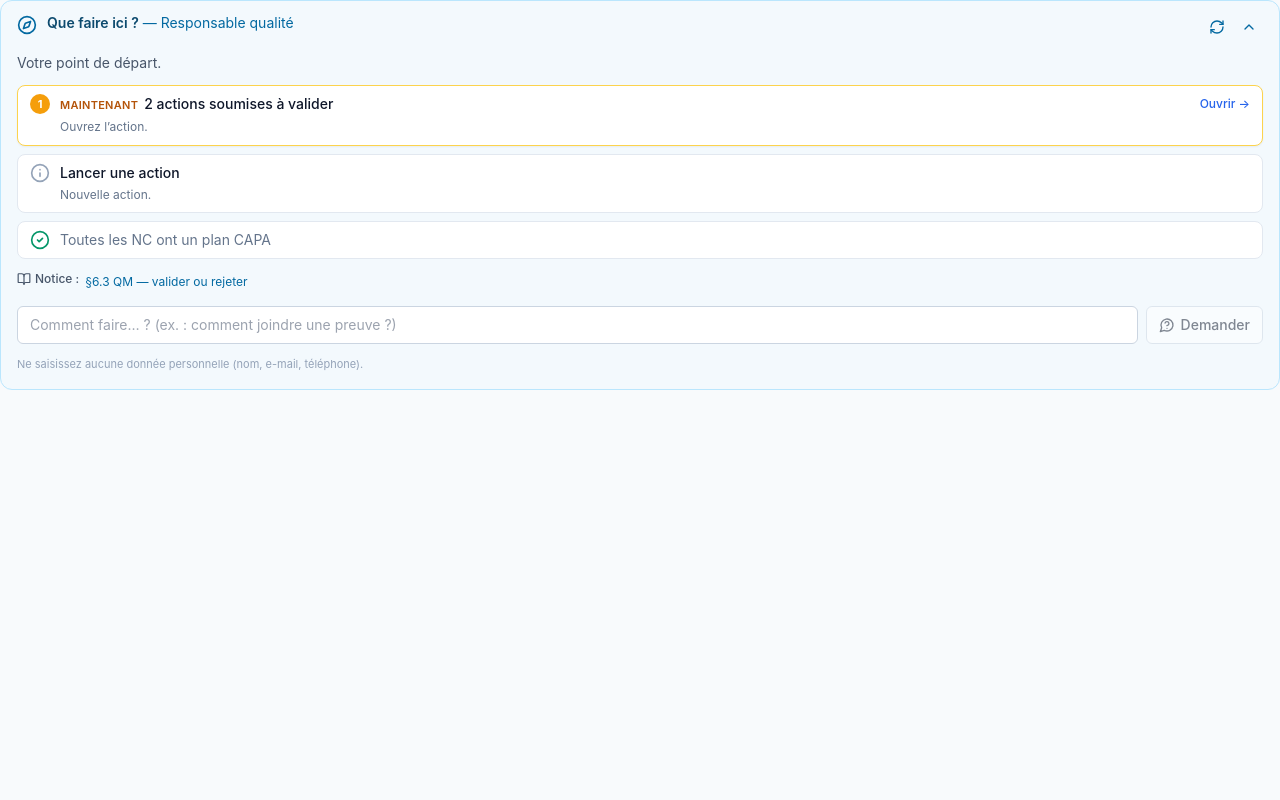
Test case: GuidePanel › répond à « Comment faire… ? » en signalant le mode notice
The image size is (1280, 800).
Expected: the text "2 actions soumises à valider" is shown, [144,95,333,112]
In the field labelled "Comment faire… ?": (577, 325) [17,306,1138,344], type "comment valider une action"
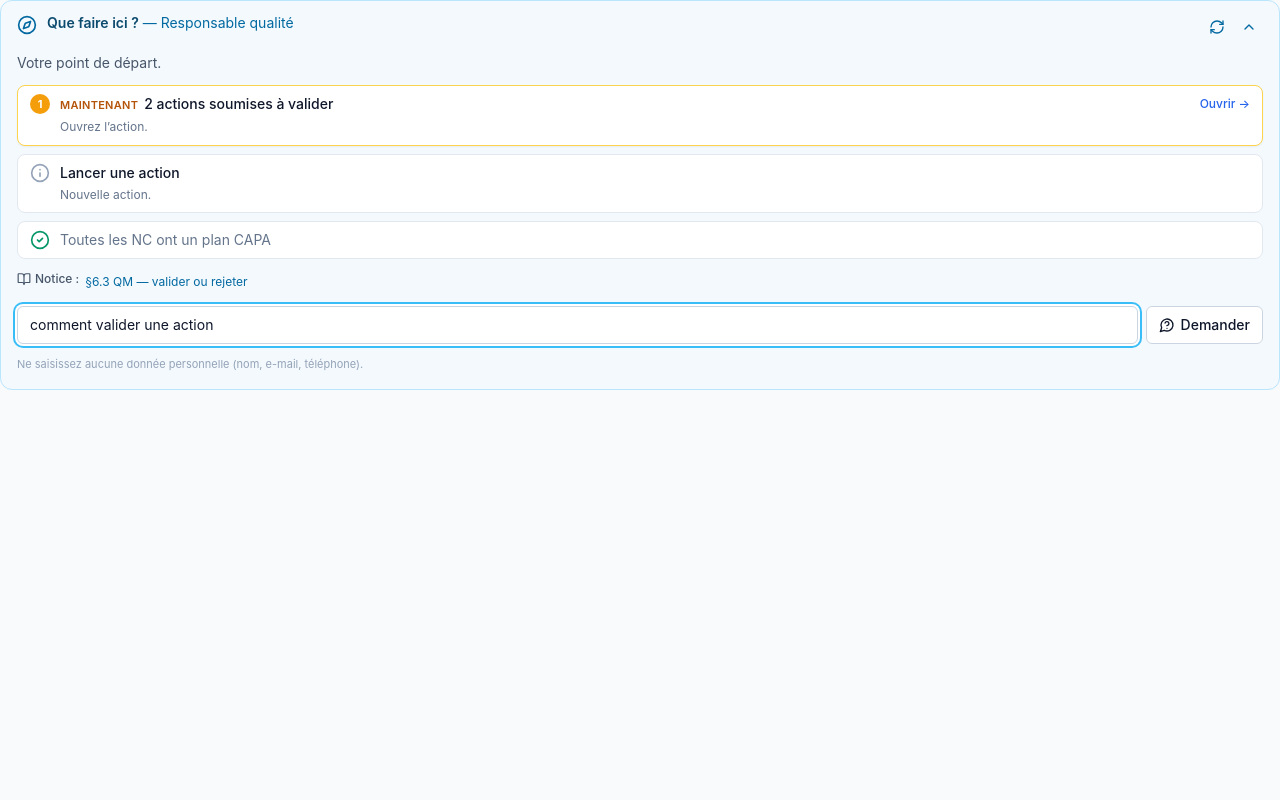
Click the button "Demander": (1204, 325) [1146,306,1263,344]
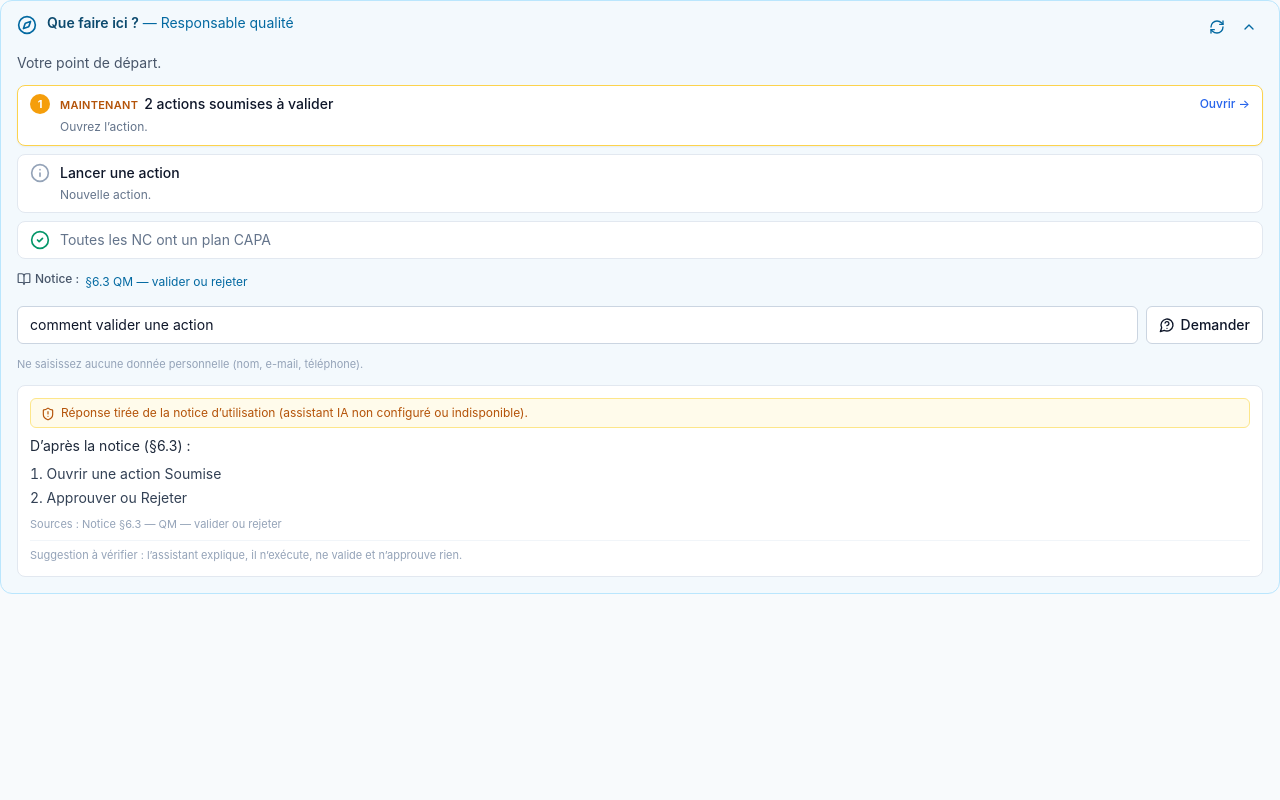
Now the list item "Approuver ou Rejeter" is shown, box [47,488,187,506]
Now the text "assistant IA non configuré" is shown, box [61,404,528,420]
Now the text "Sources : Notice §6.3 — QM — valider ou rejeter" is shown, box [30,516,282,530]
